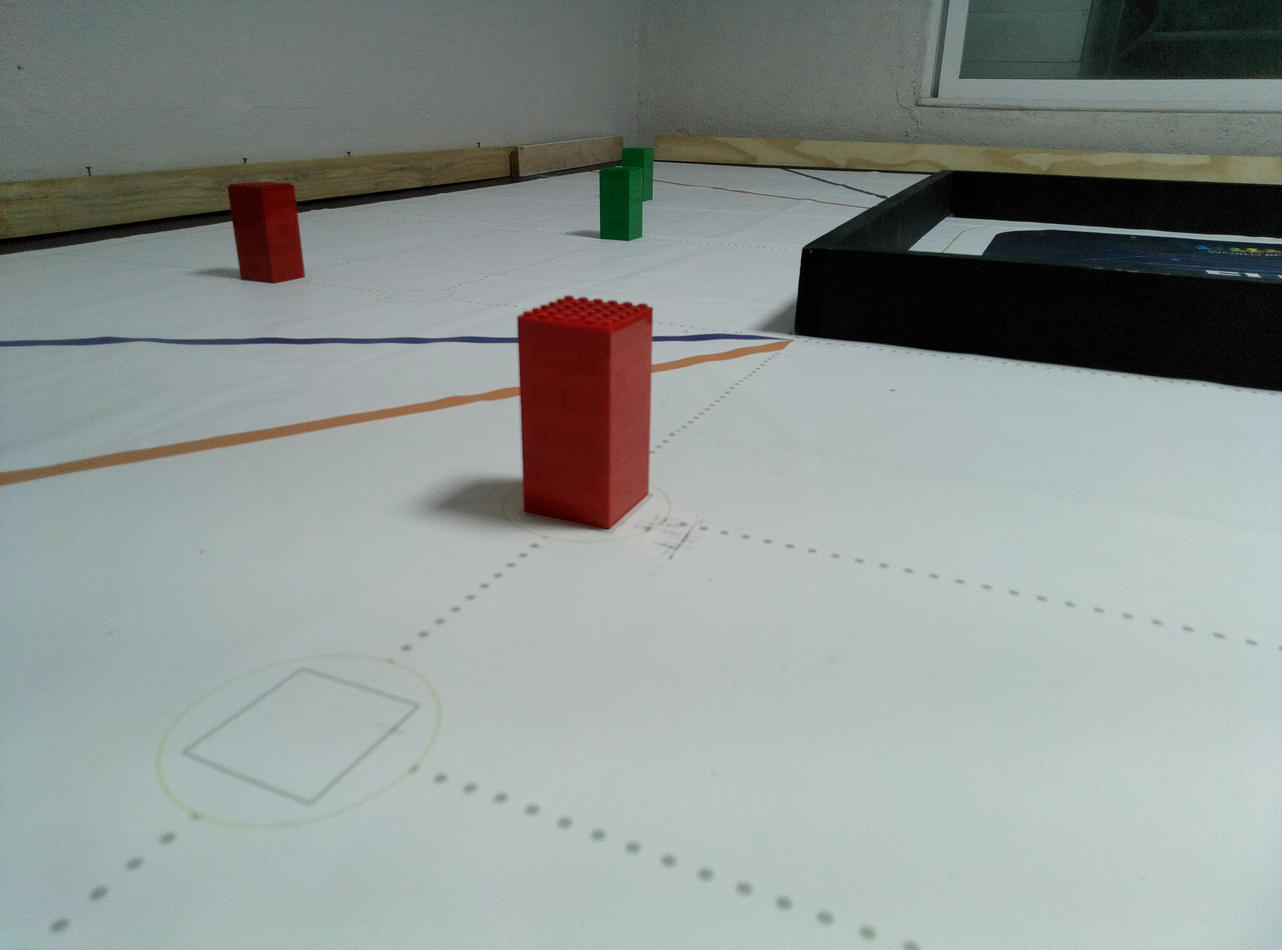greenbox: (599, 166, 644, 241), (622, 148, 653, 201)
redbox: (514, 295, 654, 530), (227, 182, 306, 283)
